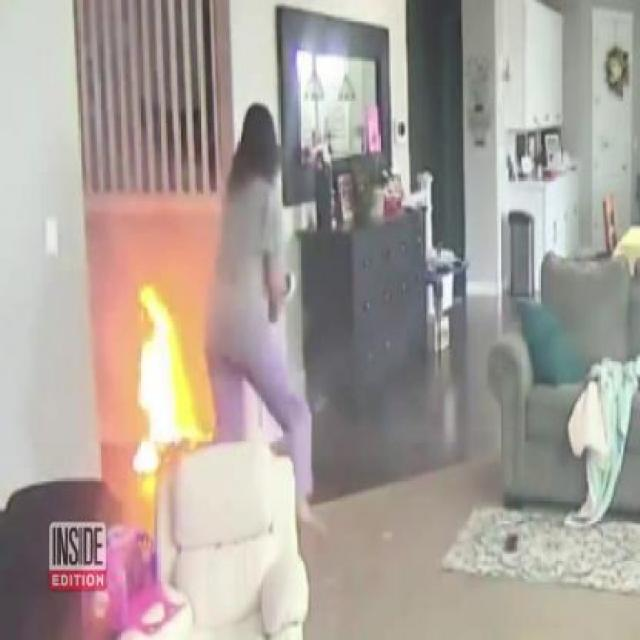fire: (116, 278, 222, 502)
